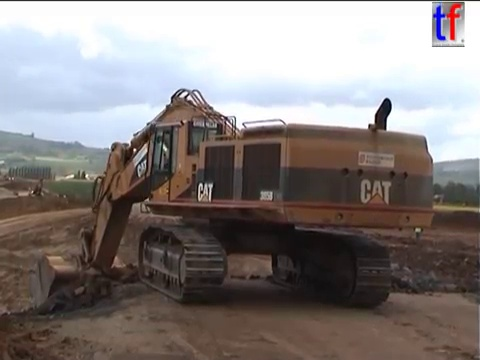excavator: (31, 84, 439, 311), (25, 176, 51, 200)
worker: (412, 217, 425, 242)
